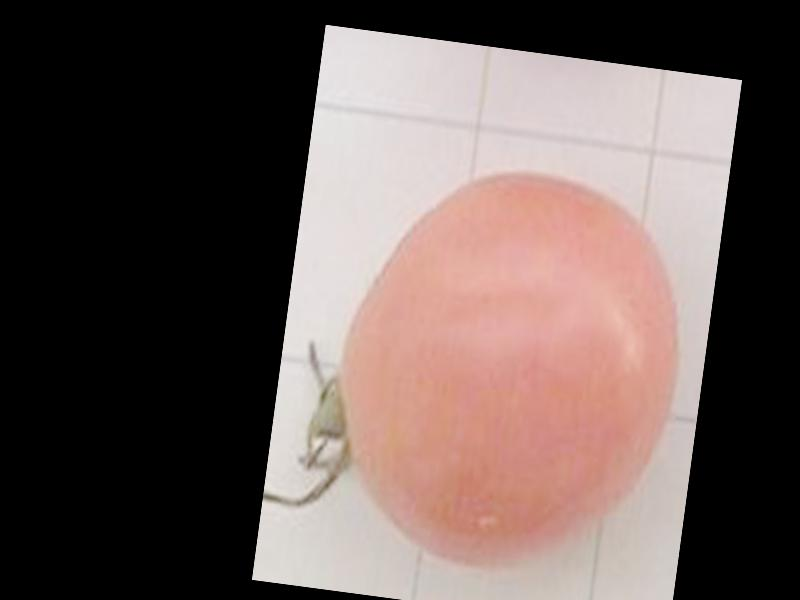Tomato: (316, 152, 700, 590)
